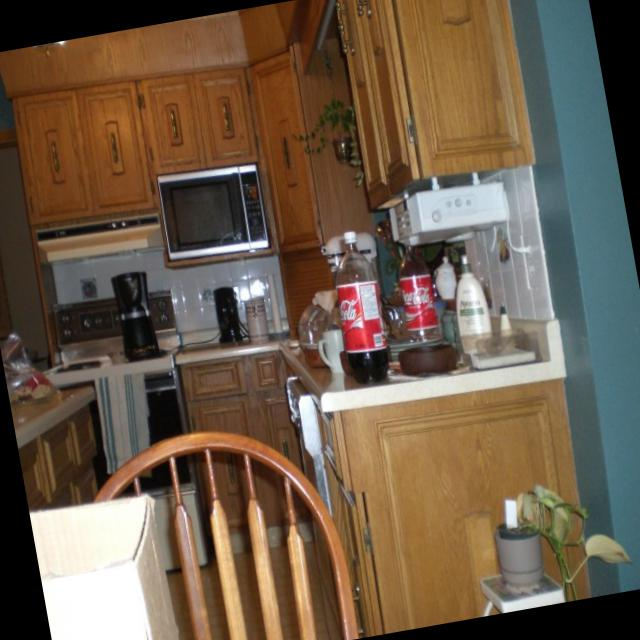2036: (173, 317, 566, 419)
bottle crop: (334, 232, 389, 375), (399, 225, 445, 350)
chair cushion: (90, 431, 359, 640)
coffee marker occluded: (109, 269, 156, 357)
cupboard: (179, 354, 309, 549), (21, 402, 110, 503)
cupboard crop: (337, 0, 533, 209), (13, 80, 155, 233), (248, 49, 322, 250), (134, 61, 258, 177)
cupboard door: (286, 357, 586, 640)
floor -X: (47, 472, 587, 640)
ladder occluded: (483, 566, 562, 611)
microwave oven: (157, 170, 275, 263)
mug: (315, 326, 347, 375)
stove oven: (53, 291, 207, 573)
wall clock: (0, 9, 307, 579), (253, 0, 572, 538), (514, 0, 640, 596)
